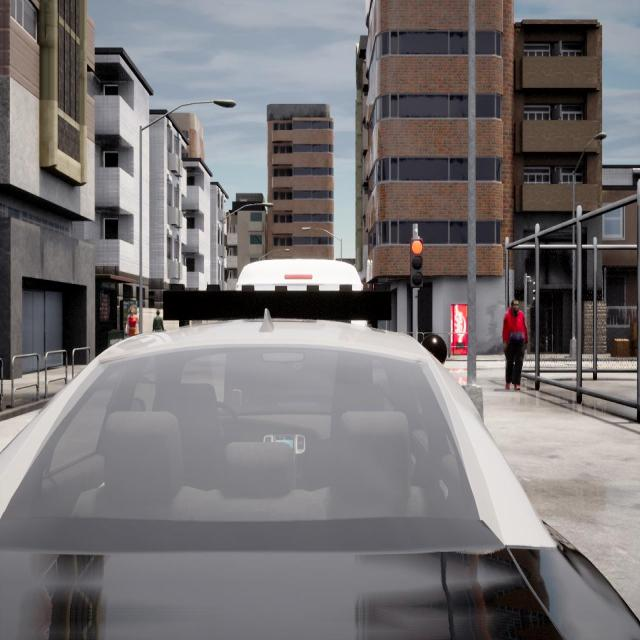Pedestrian: (502, 299, 528, 390), (126, 306, 138, 336), (153, 308, 163, 332)
Vehicle: (0, 317, 640, 638), (235, 259, 362, 292)
traffic_light: (410, 238, 422, 288), (527, 282, 535, 304)
